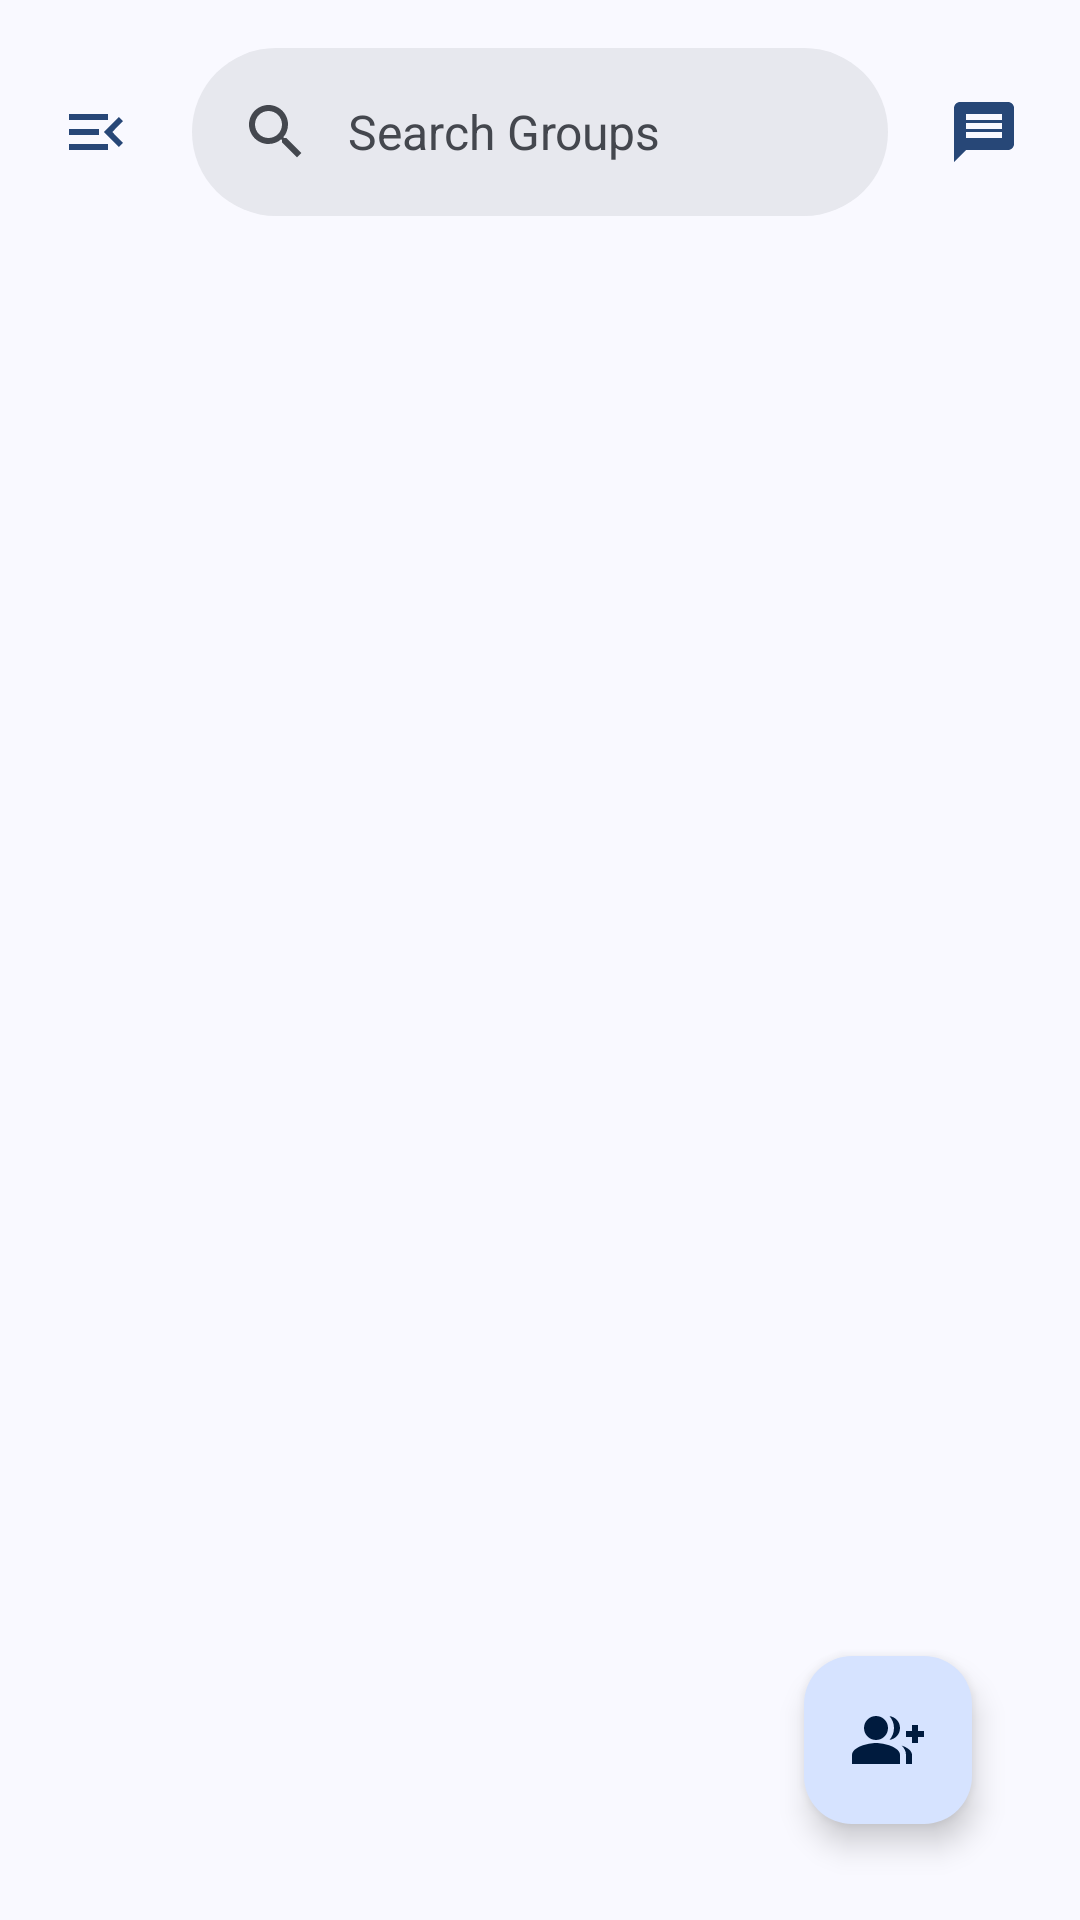

Named icons in this screenshot (1080w x 1920h) and their bounding boxes, BBox(x1, y1, x2, y2):
Create new group: BBox(804, 1656, 972, 1824)
Open menu: BBox(69, 114, 123, 150)
